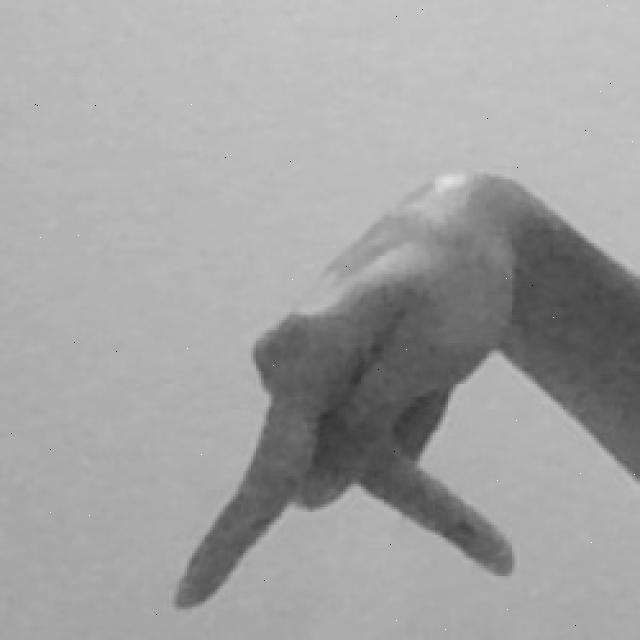P: (161, 164, 640, 640)
